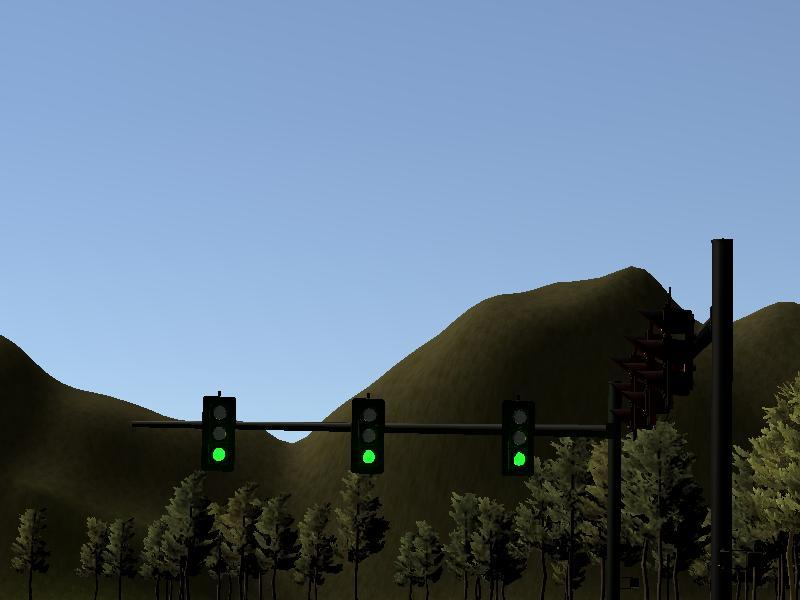Green: (201, 396, 235, 472), (501, 402, 535, 478), (351, 397, 385, 473)
